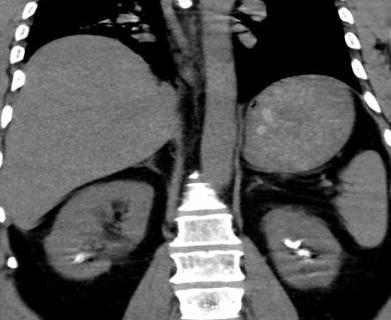Tas_Var: (68, 249, 92, 271), (292, 248, 314, 260), (281, 238, 306, 248)
